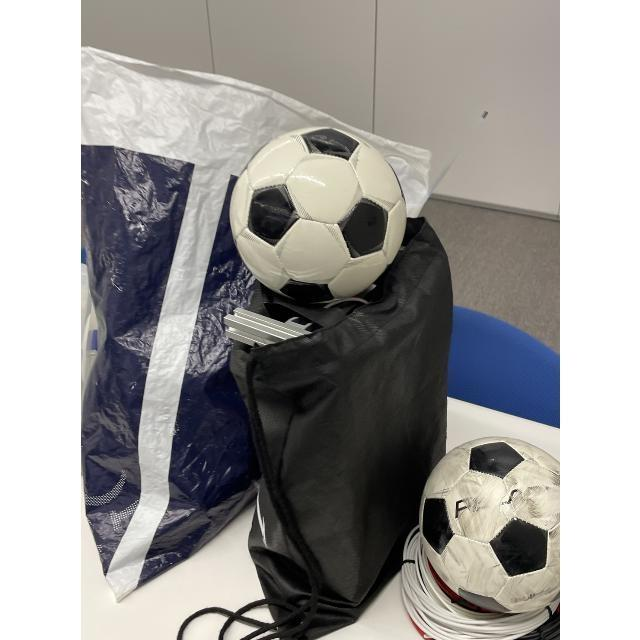Sports-Ball: (230, 128, 406, 302), (421, 439, 560, 614)
